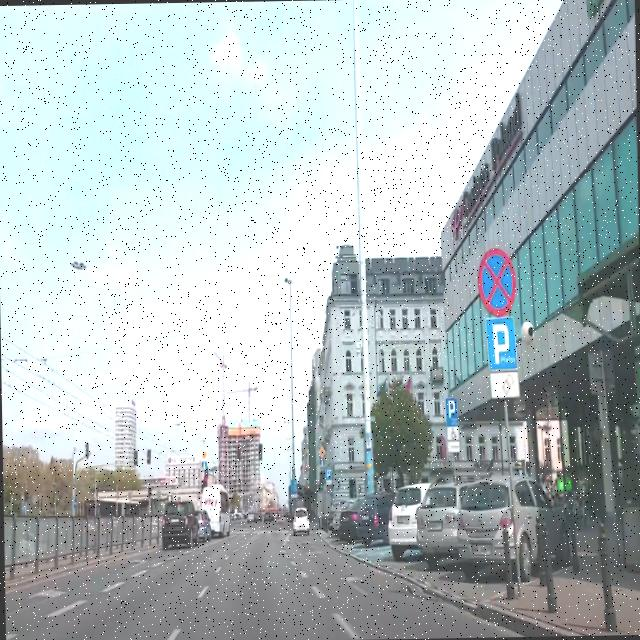Droga z pierwszenstwem: (318, 445, 326, 458), (202, 451, 206, 459)
Zakaz zatrzymywania sie: (474, 247, 516, 316)
